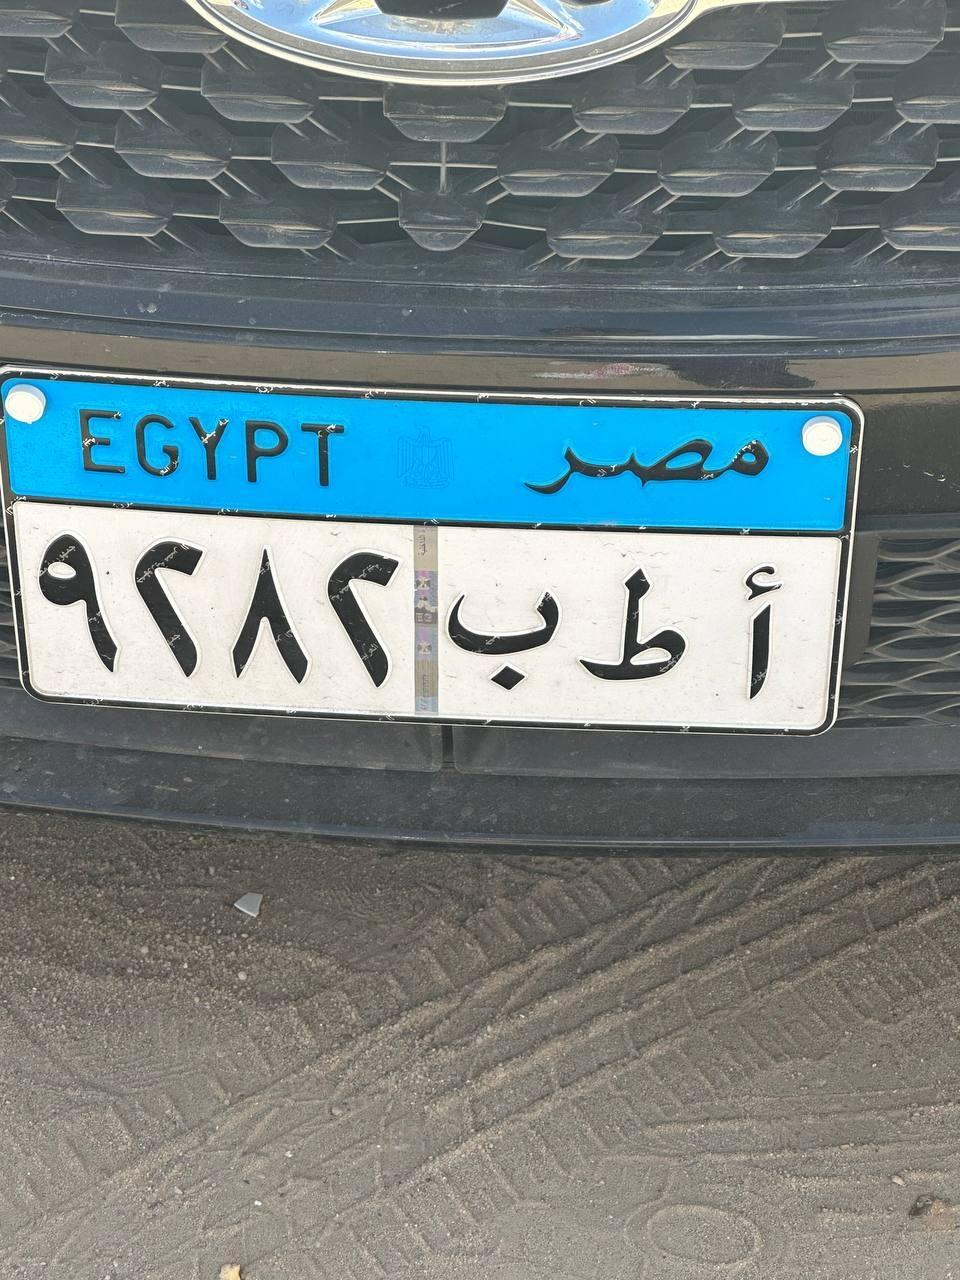2: (320, 548, 409, 692), (130, 536, 210, 682)
8: (230, 547, 310, 687)
9: (31, 525, 122, 672)
License Plate: (0, 364, 860, 729)
Taa: (582, 568, 687, 690)
alef: (730, 559, 779, 702)
baa: (446, 586, 567, 697)
